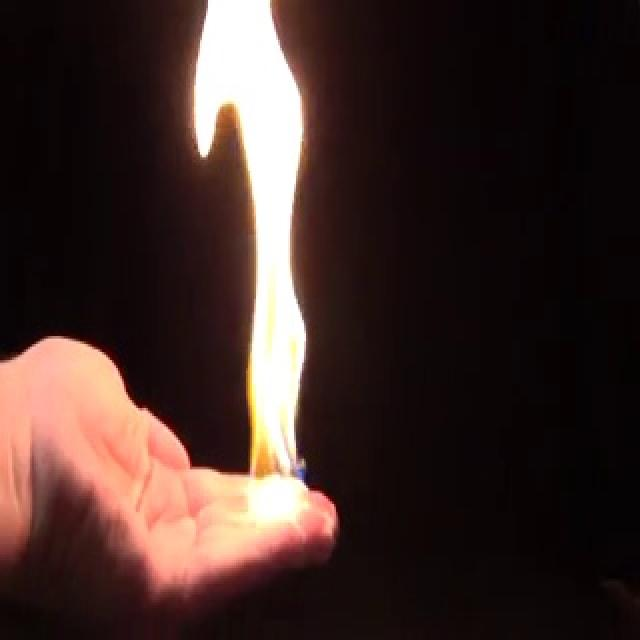fire: (185, 0, 326, 535)
